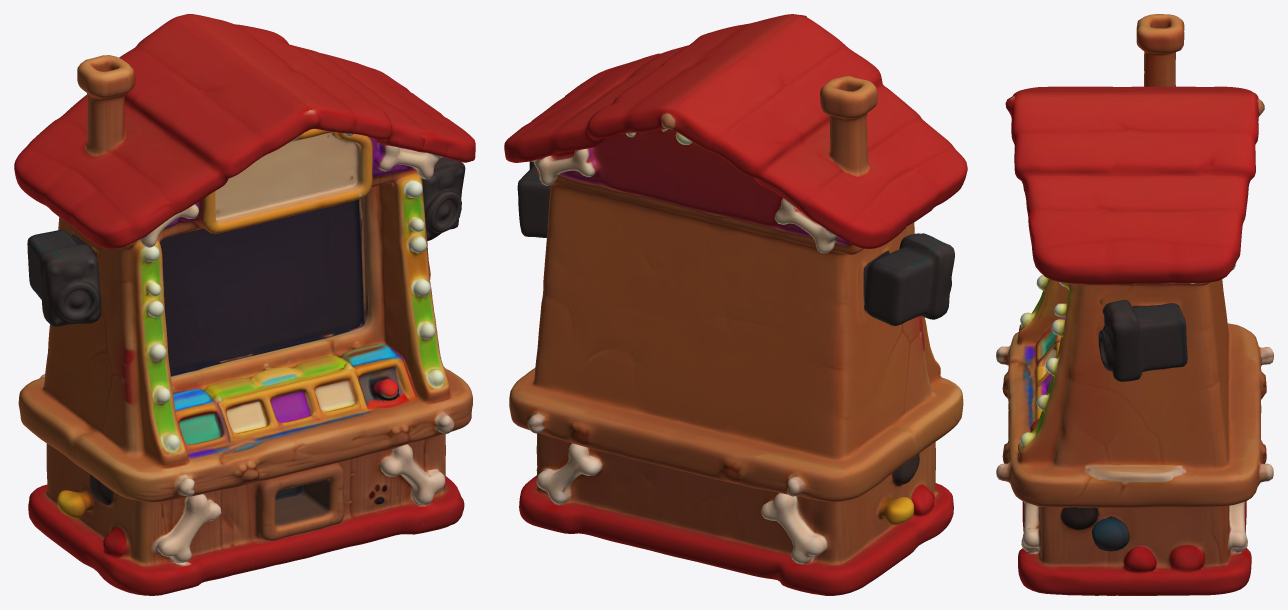
Rendered from g67_pz_slot_cabinet.glb.
3 renders of one model, left to right at view 1: azimuth 30°, elevation 25°; view 2: azimuth 150°, elevation 25°; view 3: azimuth 270°, elevation 25°, orthographic. The views are drawn at different scales.
Visible parts, largest first — view 1: tripo_node_b5dc243f; view 2: tripo_node_b5dc243f; view 3: tripo_node_b5dc243f.
Part boxes in pixels (left/top/right/bottom): tripo_node_b5dc243f: left=14, top=14, right=475, bottom=595; tripo_node_b5dc243f: left=504, top=14, right=967, bottom=595; tripo_node_b5dc243f: left=996, top=14, right=1273, bottom=595.
Size of the model in its own units: 90.43 by 98.02 by 55.95.
1 material, 1 textured.
